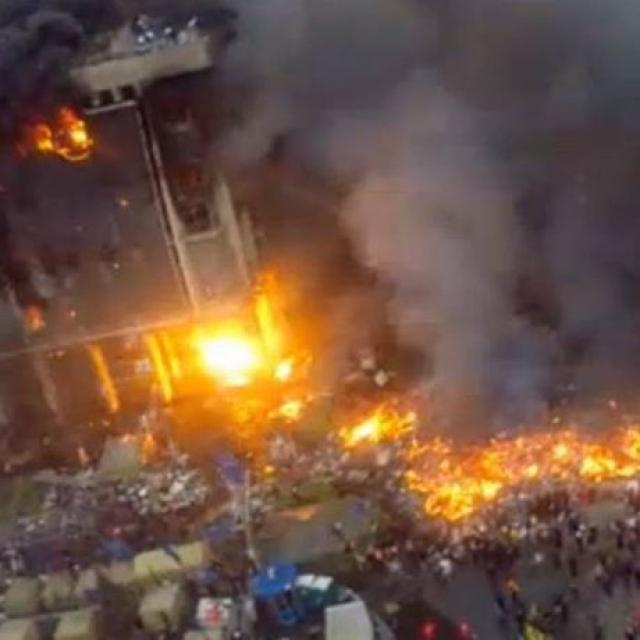Fire: (290, 391, 640, 506), (175, 310, 269, 392), (26, 115, 94, 163), (272, 344, 323, 384)
Smoke: (204, 14, 640, 419), (0, 0, 82, 114)
